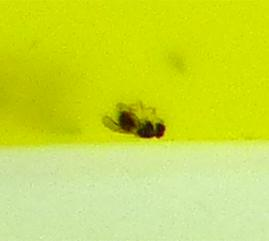Brachycera: (100, 100, 169, 141)
